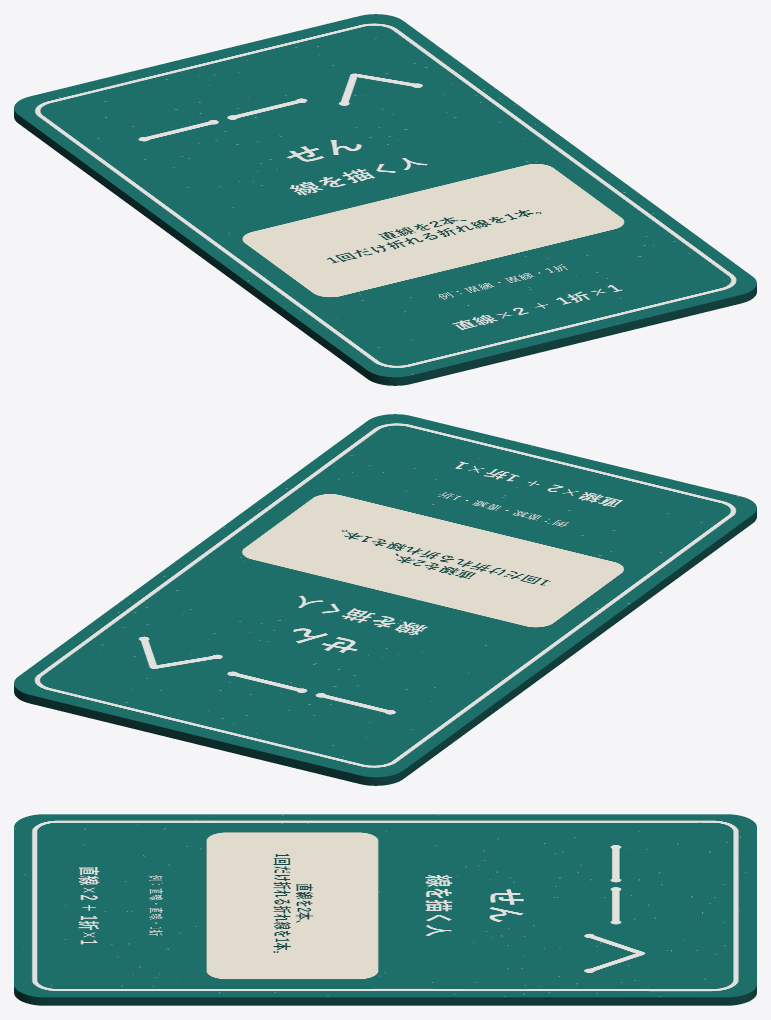
Rendered from role_segment.glb.
3 views of the same model, one above another, from view 1: azimuth 30°, elevation 25°; view 2: azimuth 150°, elevation 25°; view 3: azimuth 270°, elevation 25° (orthographic). The views are drawn at different scales.
Parts seen in each view (by area): view 1: role_segment; view 2: role_segment; view 3: role_segment.
Part boxes in pixels (bbox=[...]): role_segment: bbox=[14, 14, 756, 385]; role_segment: bbox=[14, 414, 756, 785]; role_segment: bbox=[14, 814, 756, 1005].
Size of the model in its own units: 0.07 by 0.0015 by 0.12.
Materials: 3 (2 with a texture image).
